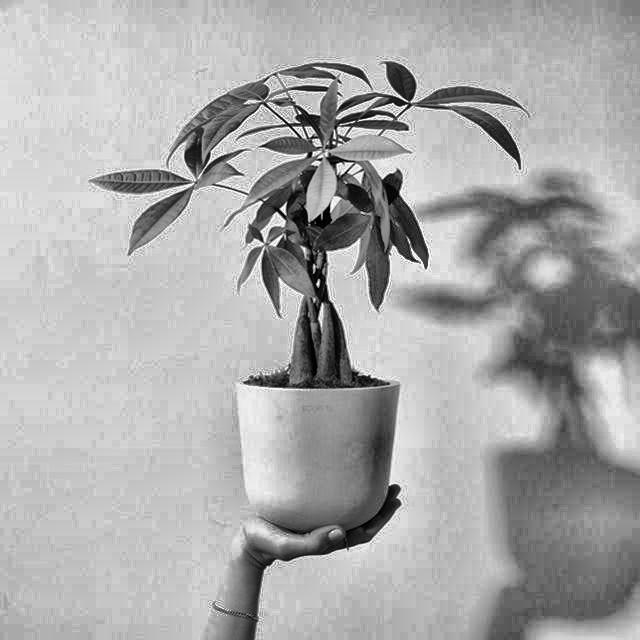plants: (83, 56, 530, 376)
